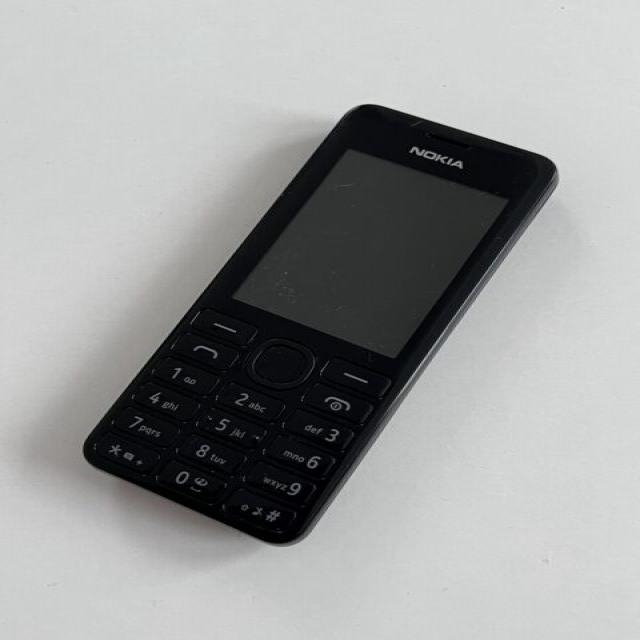mobile phone: (80, 101, 559, 547)
